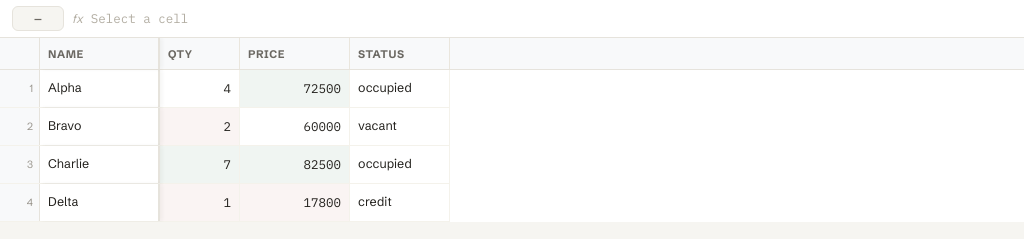
Test: SpreadsheetEngine › Escape cancels edit and restores value
The image size is (1024, 239).
Double-click the cell "Alpha" at x=100, y=89, box [40, 70, 160, 107]
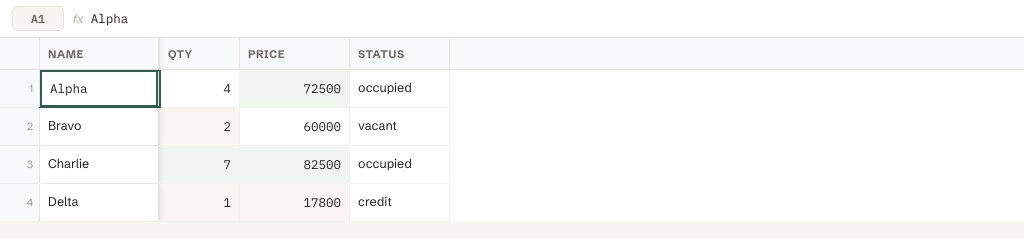
Replace the text in the field named "Cell editor" with "Changed" at x=99, y=89, box [40, 70, 158, 107]
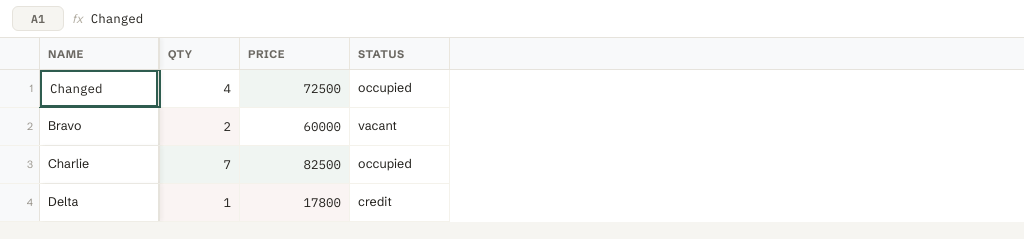
Press Escape in the field named "Cell editor", box [40, 70, 158, 107]
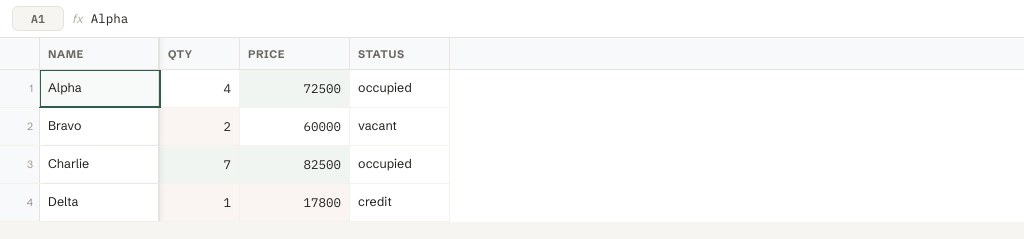
Now the text "Alpha" is shown, box [48, 79, 82, 98]
